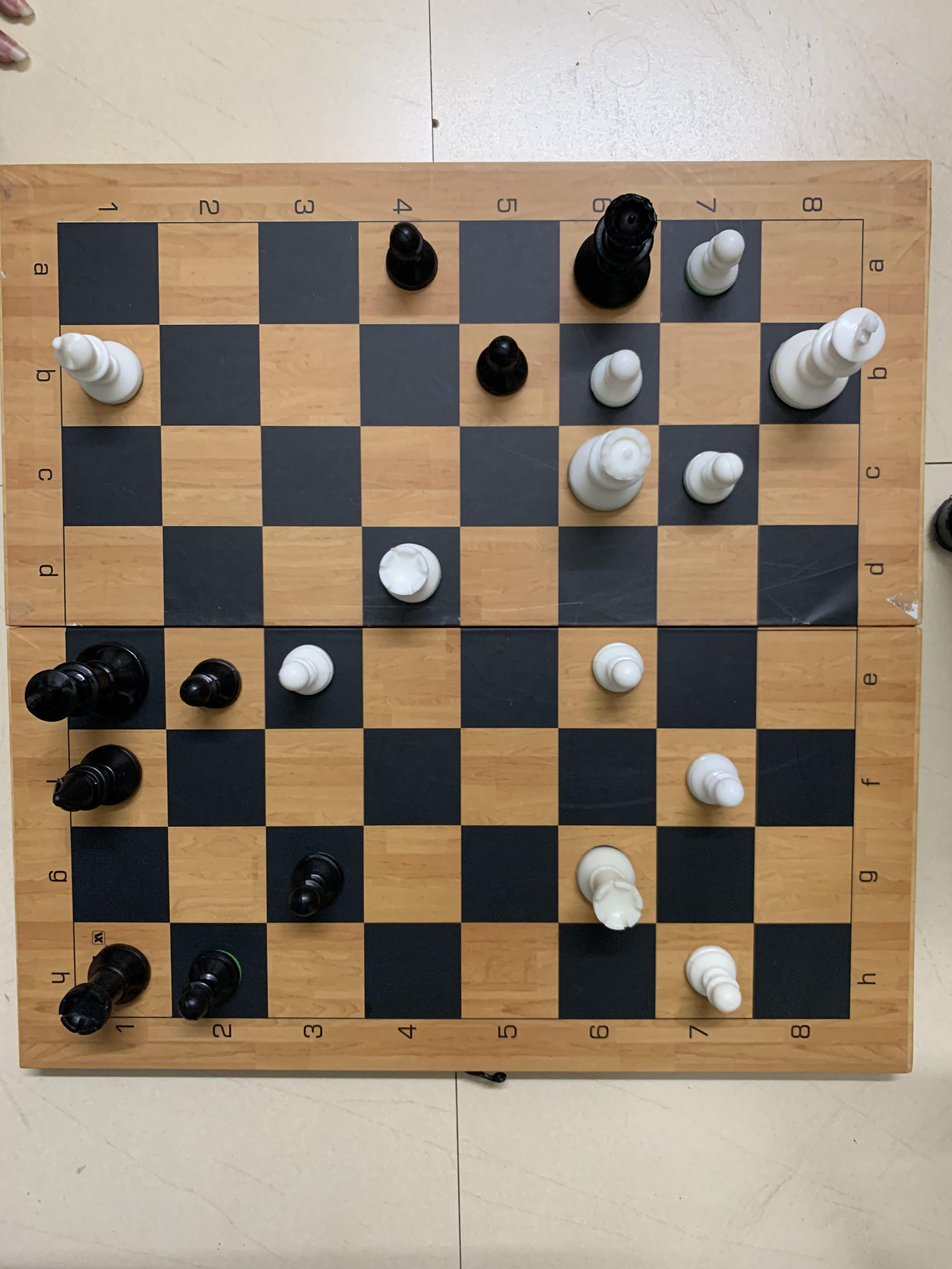black_bishop: (48, 740, 150, 825)
black_king: (20, 633, 153, 733)
black_pawn: (375, 221, 449, 303), (176, 947, 246, 1026), (470, 330, 538, 411), (179, 648, 245, 724), (285, 845, 348, 921)
black_queen: (563, 188, 661, 317)
black_rook: (60, 931, 157, 1048)
white_bishop: (41, 317, 154, 422)
white_king: (762, 304, 888, 407)
white_pawn: (675, 935, 749, 1028), (679, 218, 756, 301), (674, 439, 751, 515), (271, 635, 345, 713), (581, 341, 653, 414), (678, 743, 750, 816), (587, 636, 650, 702)
white_rook: (568, 833, 650, 938), (372, 533, 447, 610)
